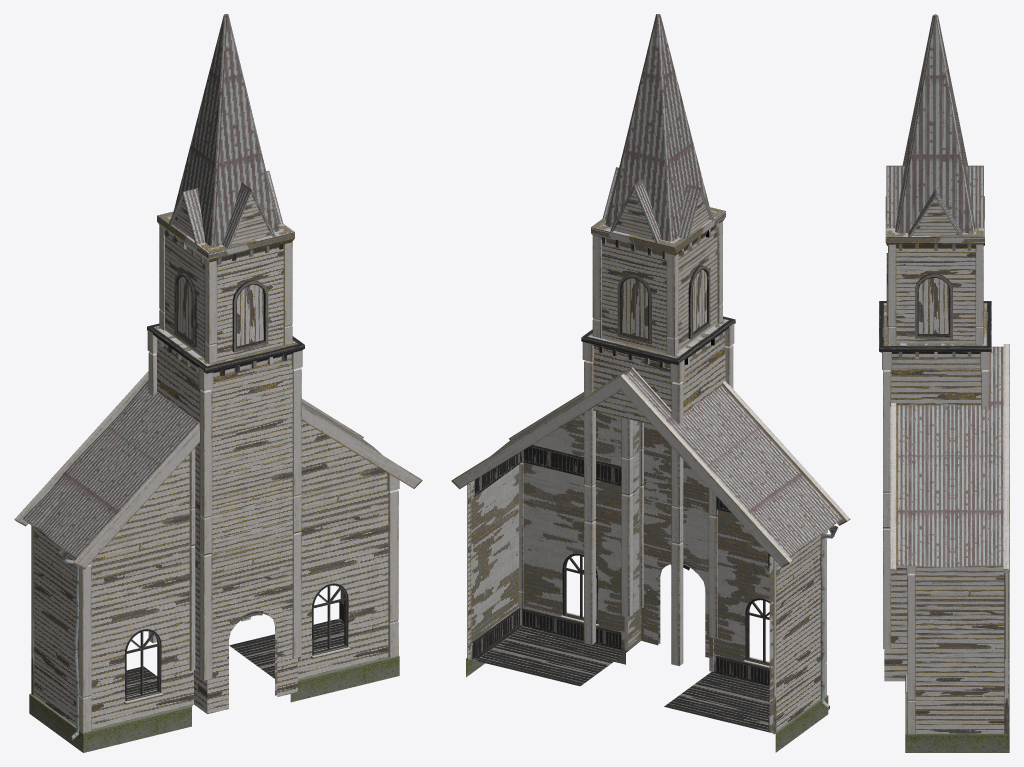
Rendered from front.glb.
3 renders of one model, left to right at view 1: azimuth 30°, elevation 25°; view 2: azimuth 150°, elevation 25°; view 3: azimuth 270°, elevation 25°, orthographic. The views are drawn at different scales.
Visible parts, largest first — view 1: Church1_End_A; view 2: Church1_End_A; view 3: Church1_End_A.
Part boxes in pixels (x1,y1,x2,y2): Church1_End_A: (14,14,422,752); Church1_End_A: (451,14,850,752); Church1_End_A: (879,14,1009,752).
Bounding box in the file's own units: 10.1 × 19.09 × 3.41.
1 material, 1 textured.
